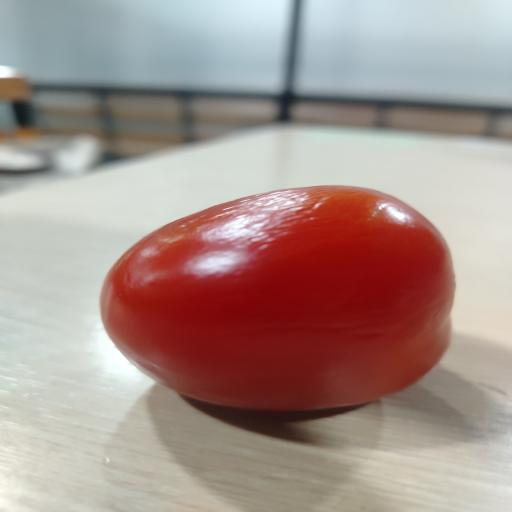spoiled: (101, 186, 454, 410)
